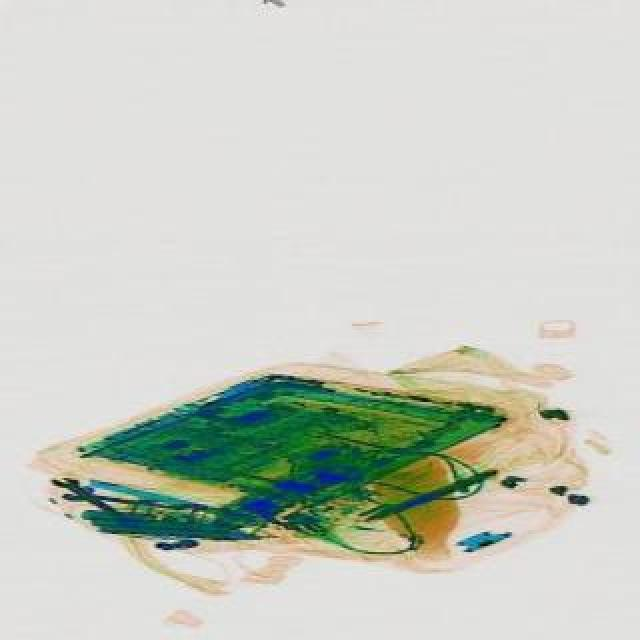scissors: (48, 468, 134, 534), (58, 486, 204, 518)
